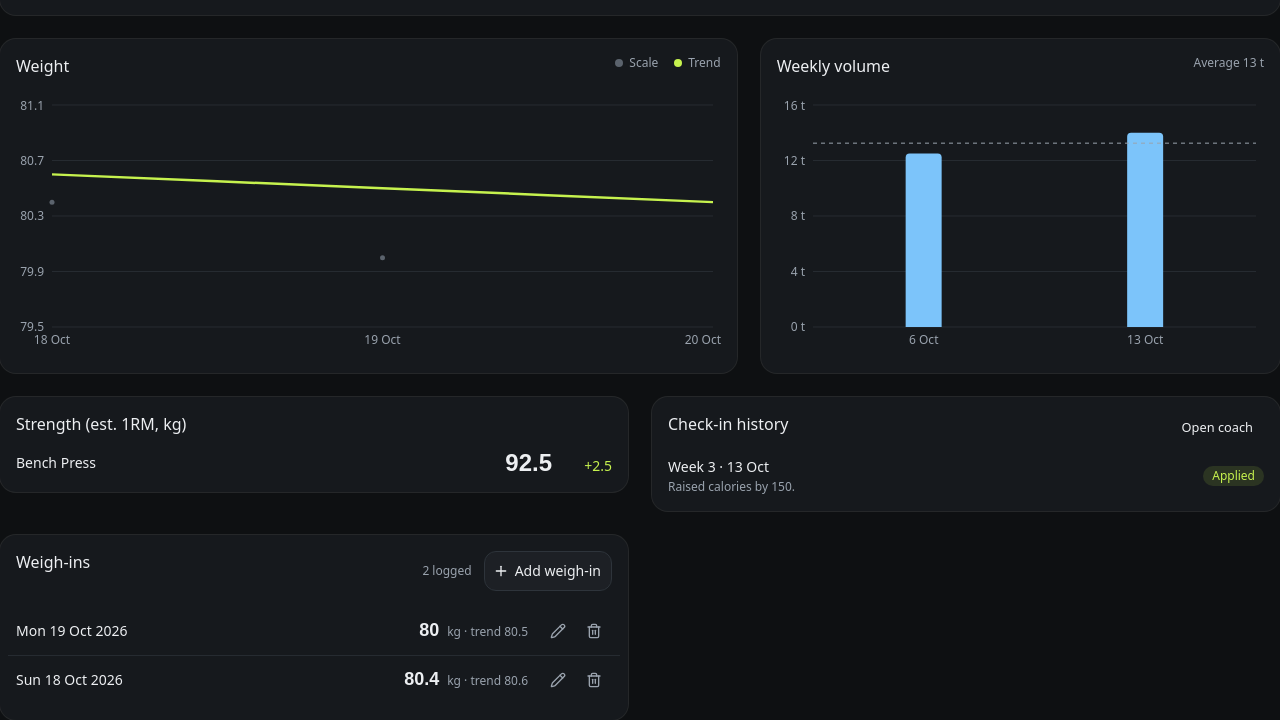
Scenario: Weigh-ins › closes an unchanged edit without a request
The image size is (1280, 720).
(page scrolled)
Click the button named "Edit weigh-in on Mon 19 Oct 2026". click: [558, 631]
box: top-left (540, 613), bottom-right (576, 649)
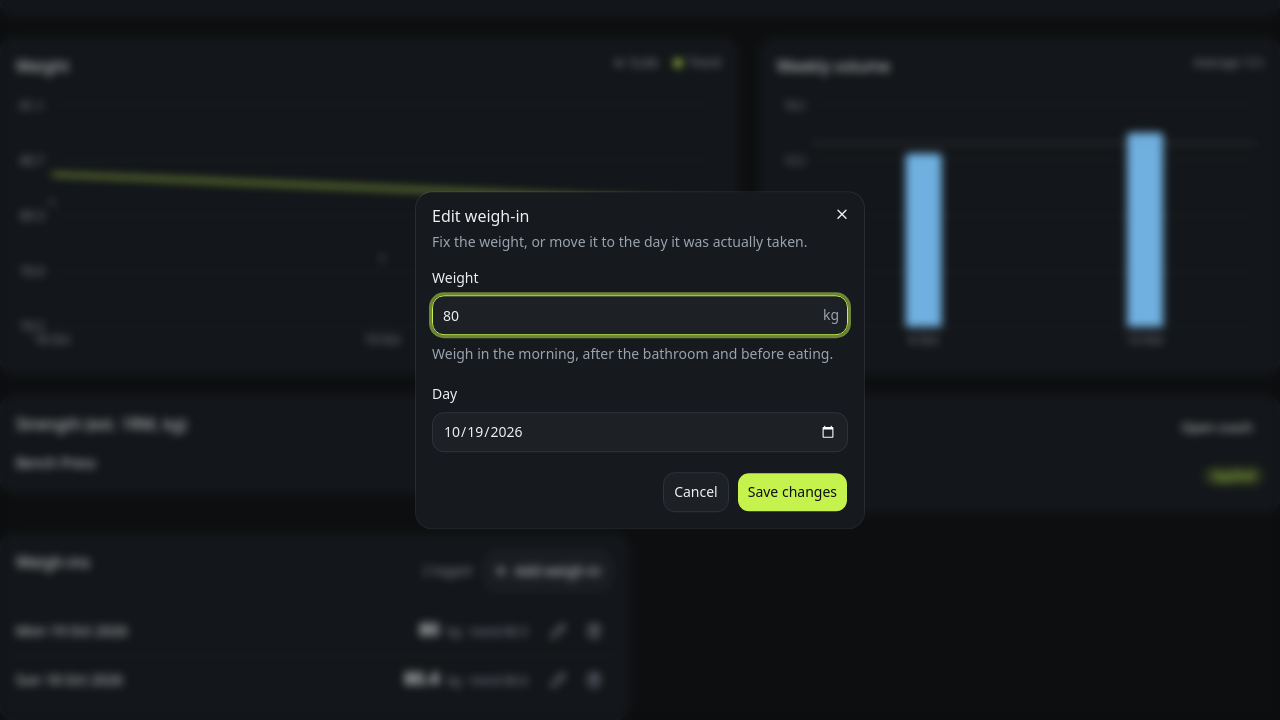
Click the button "Save changes". click: [792, 492]
box: top-left (737, 472), bottom-right (848, 512)
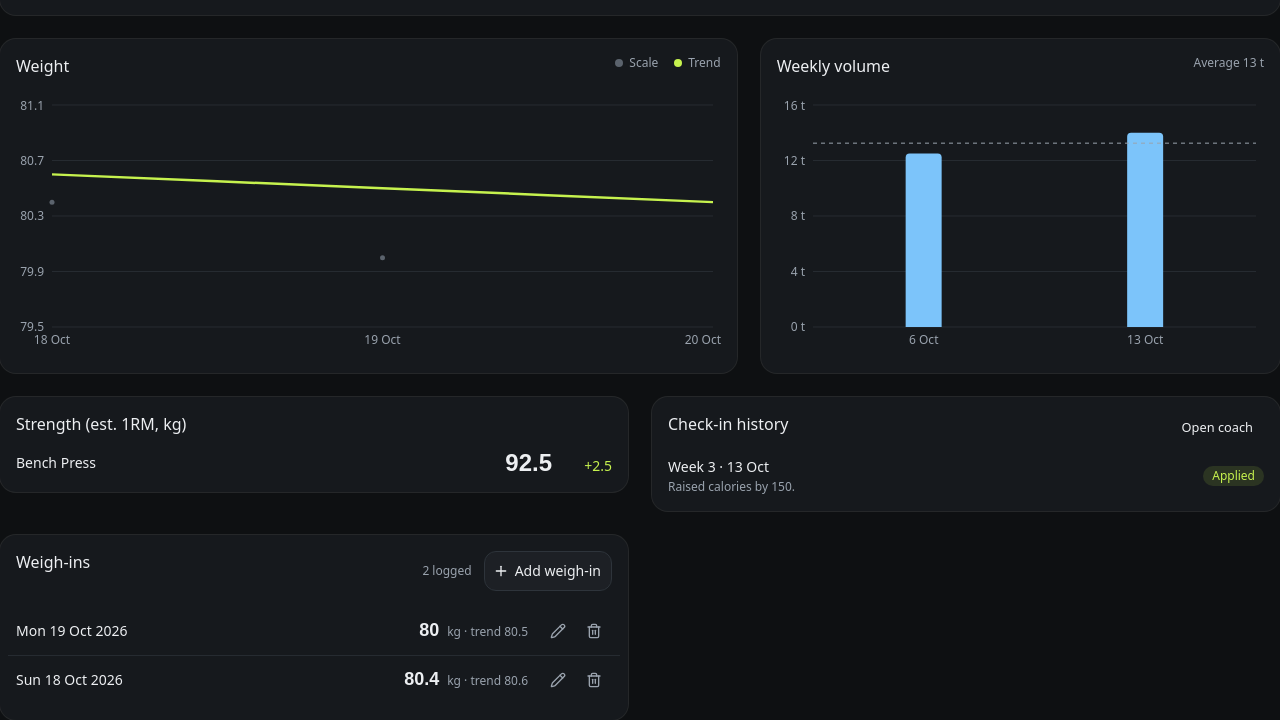
Now the dialog is gone
